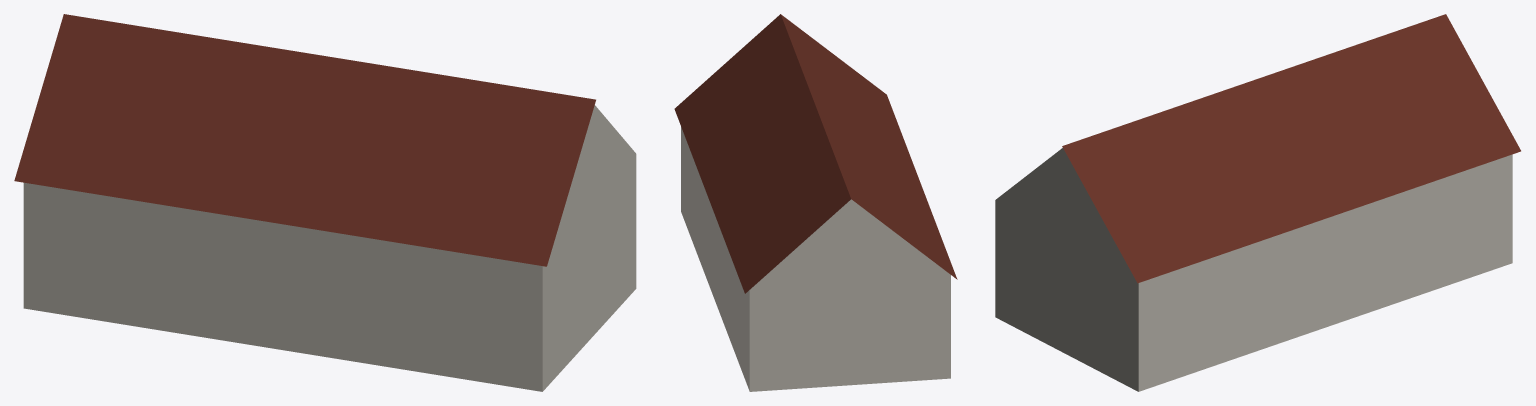
3 views of the same model, side by side, from view 1: azimuth 30°, elevation 25°; view 2: azimuth 150°, elevation 25°; view 3: azimuth 270°, elevation 25° (orthographic). The views are drawn at different scales.
Visible parts, largest first — view 1: buildings; view 2: buildings; view 3: buildings.
Part boxes in pixels (left/top/right/bottom): buildings: left=14, top=14, right=636, bottom=391; buildings: left=674, top=14, right=957, bottom=391; buildings: left=995, top=14, right=1520, bottom=391.
Bounding box in the file's own units: 23.5 × 10.92 × 25.18.
